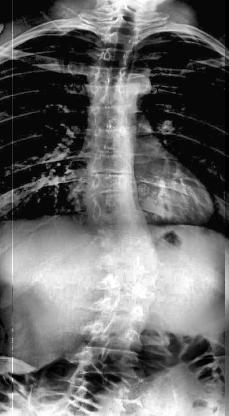Vertebrae: (76, 346, 143, 384), (93, 215, 156, 247), (85, 320, 151, 350), (99, 270, 161, 298), (96, 294, 155, 322), (99, 244, 155, 272), (88, 150, 142, 176), (89, 175, 141, 201), (89, 125, 140, 151), (88, 81, 138, 105), (89, 198, 143, 220), (87, 104, 137, 127), (88, 64, 130, 84), (98, 30, 138, 50), (95, 46, 135, 66), (100, 13, 142, 32)
